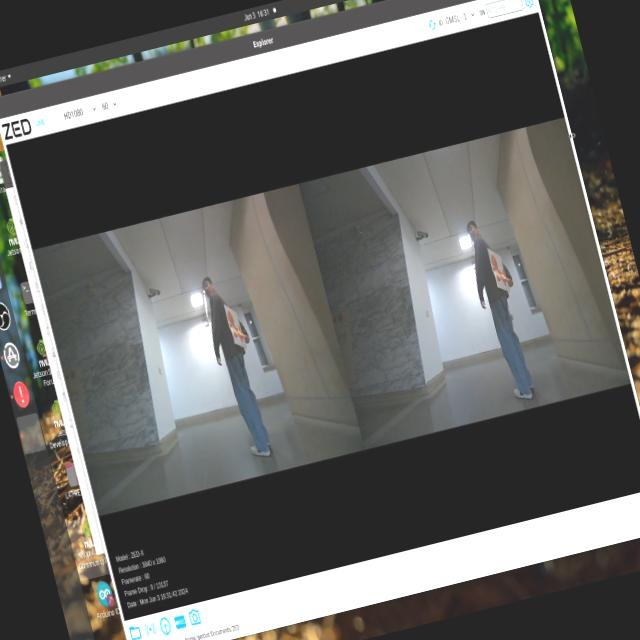red: (490, 252, 510, 292), (227, 304, 246, 344)
